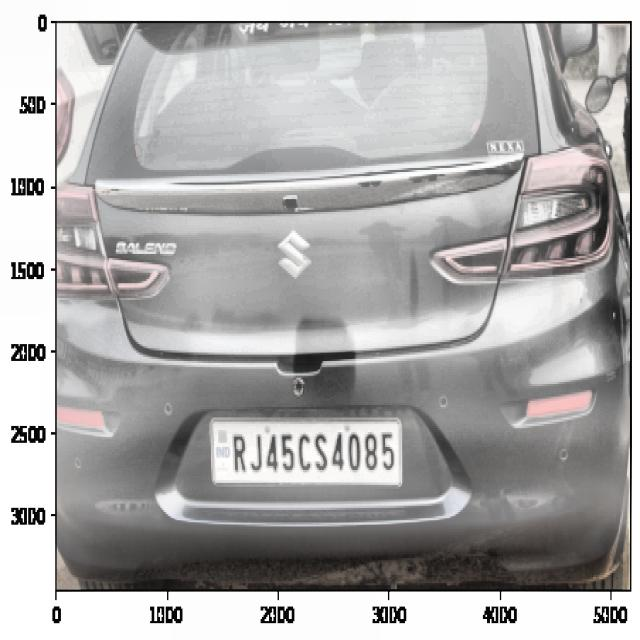license_plate: (224, 420, 400, 485)
